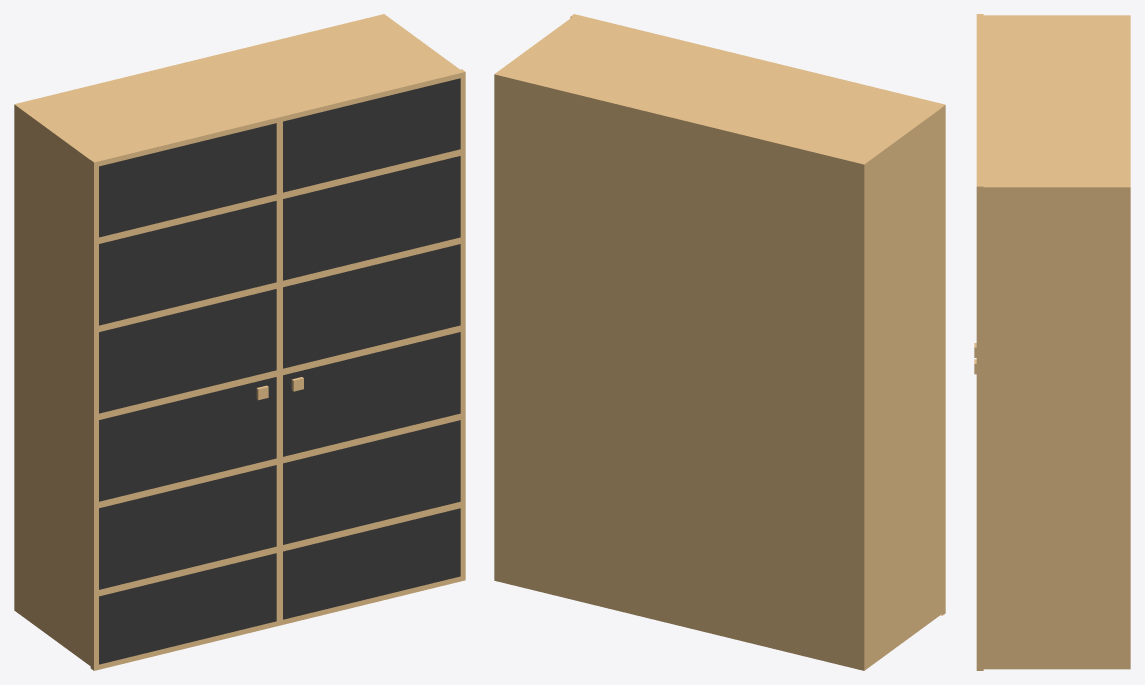
The model's file is closet_002.glb.
3 renders of one model, left to right at view 1: azimuth 30°, elevation 25°; view 2: azimuth 150°, elevation 25°; view 3: azimuth 270°, elevation 25°, orthographic. The views are drawn at different scales.
Visible parts, largest first — view 1: closet_002; view 2: closet_002; view 3: closet_002.
Boxes of the visible parts, bbox=[...] form: closet_002: bbox=[14, 14, 465, 670]; closet_002: bbox=[494, 14, 945, 670]; closet_002: bbox=[974, 14, 1130, 670].
Size of the model in its own units: 1.5 by 1.96 by 0.5715.
Materials: 1 (1 with a texture image).
